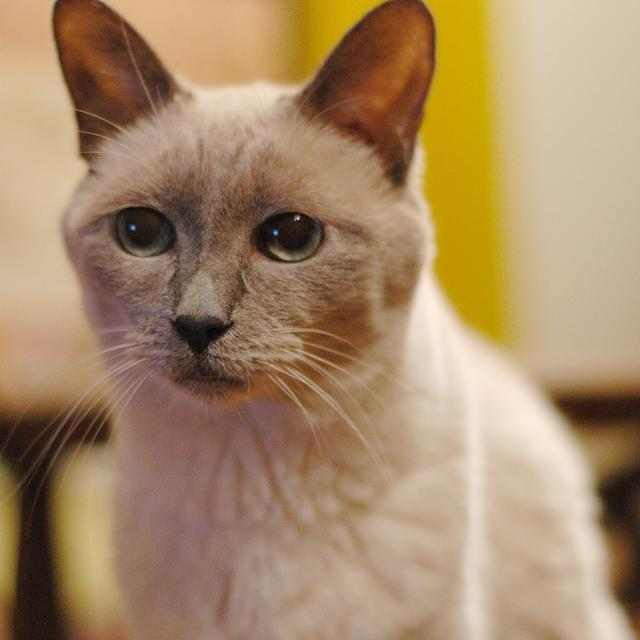animals: (68, 0, 411, 348)
